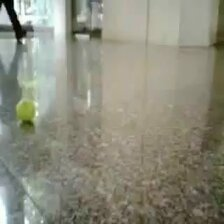tennis: (17, 99, 35, 120)
